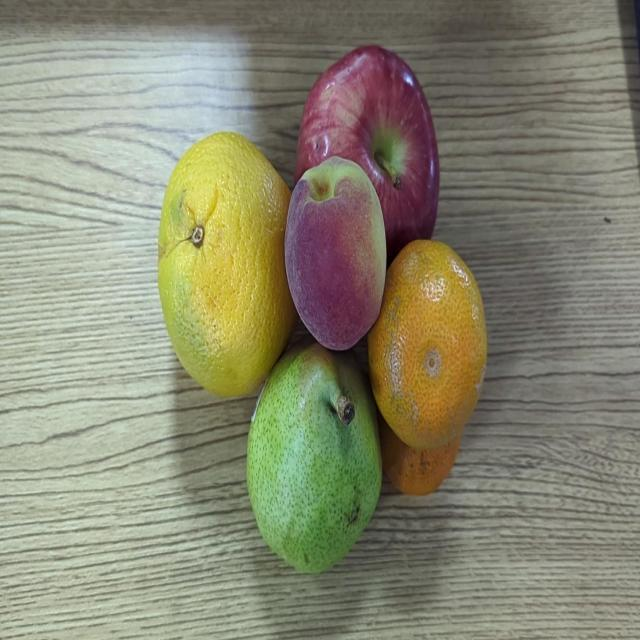Apel Merah: (296, 55, 440, 230)
Jeruk: (156, 140, 286, 366)
Jeruk Mandarin: (382, 244, 489, 452), (383, 417, 485, 503)
Persik: (284, 161, 384, 353)
Pir: (248, 346, 394, 586)
